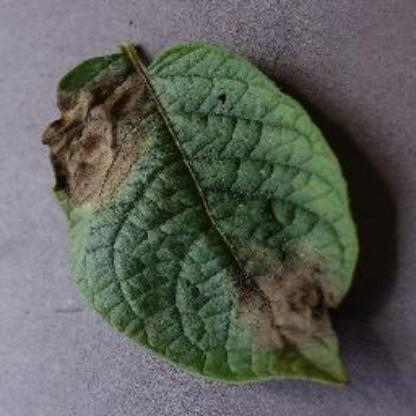Late-Blight: (38, 40, 364, 388)
